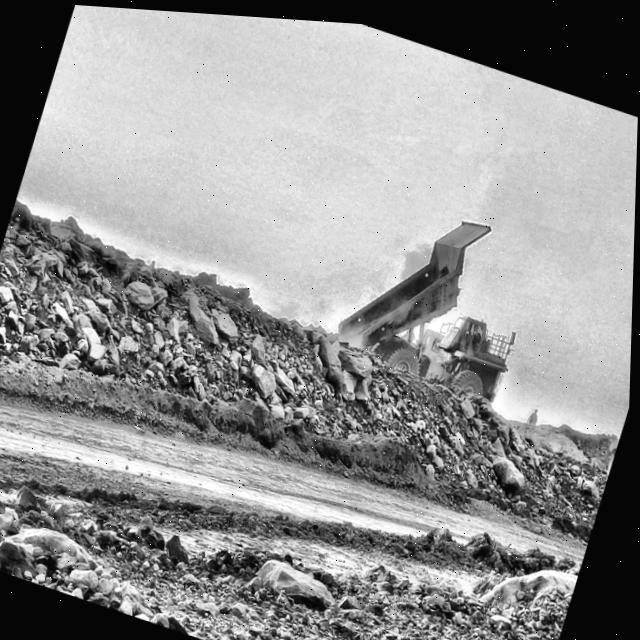dump_truck: (339, 214, 517, 395)
